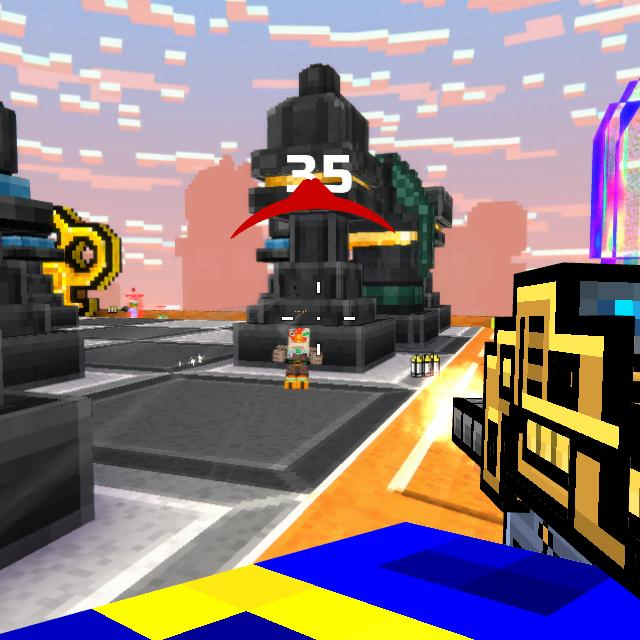Enemy: (128, 301, 141, 318)
